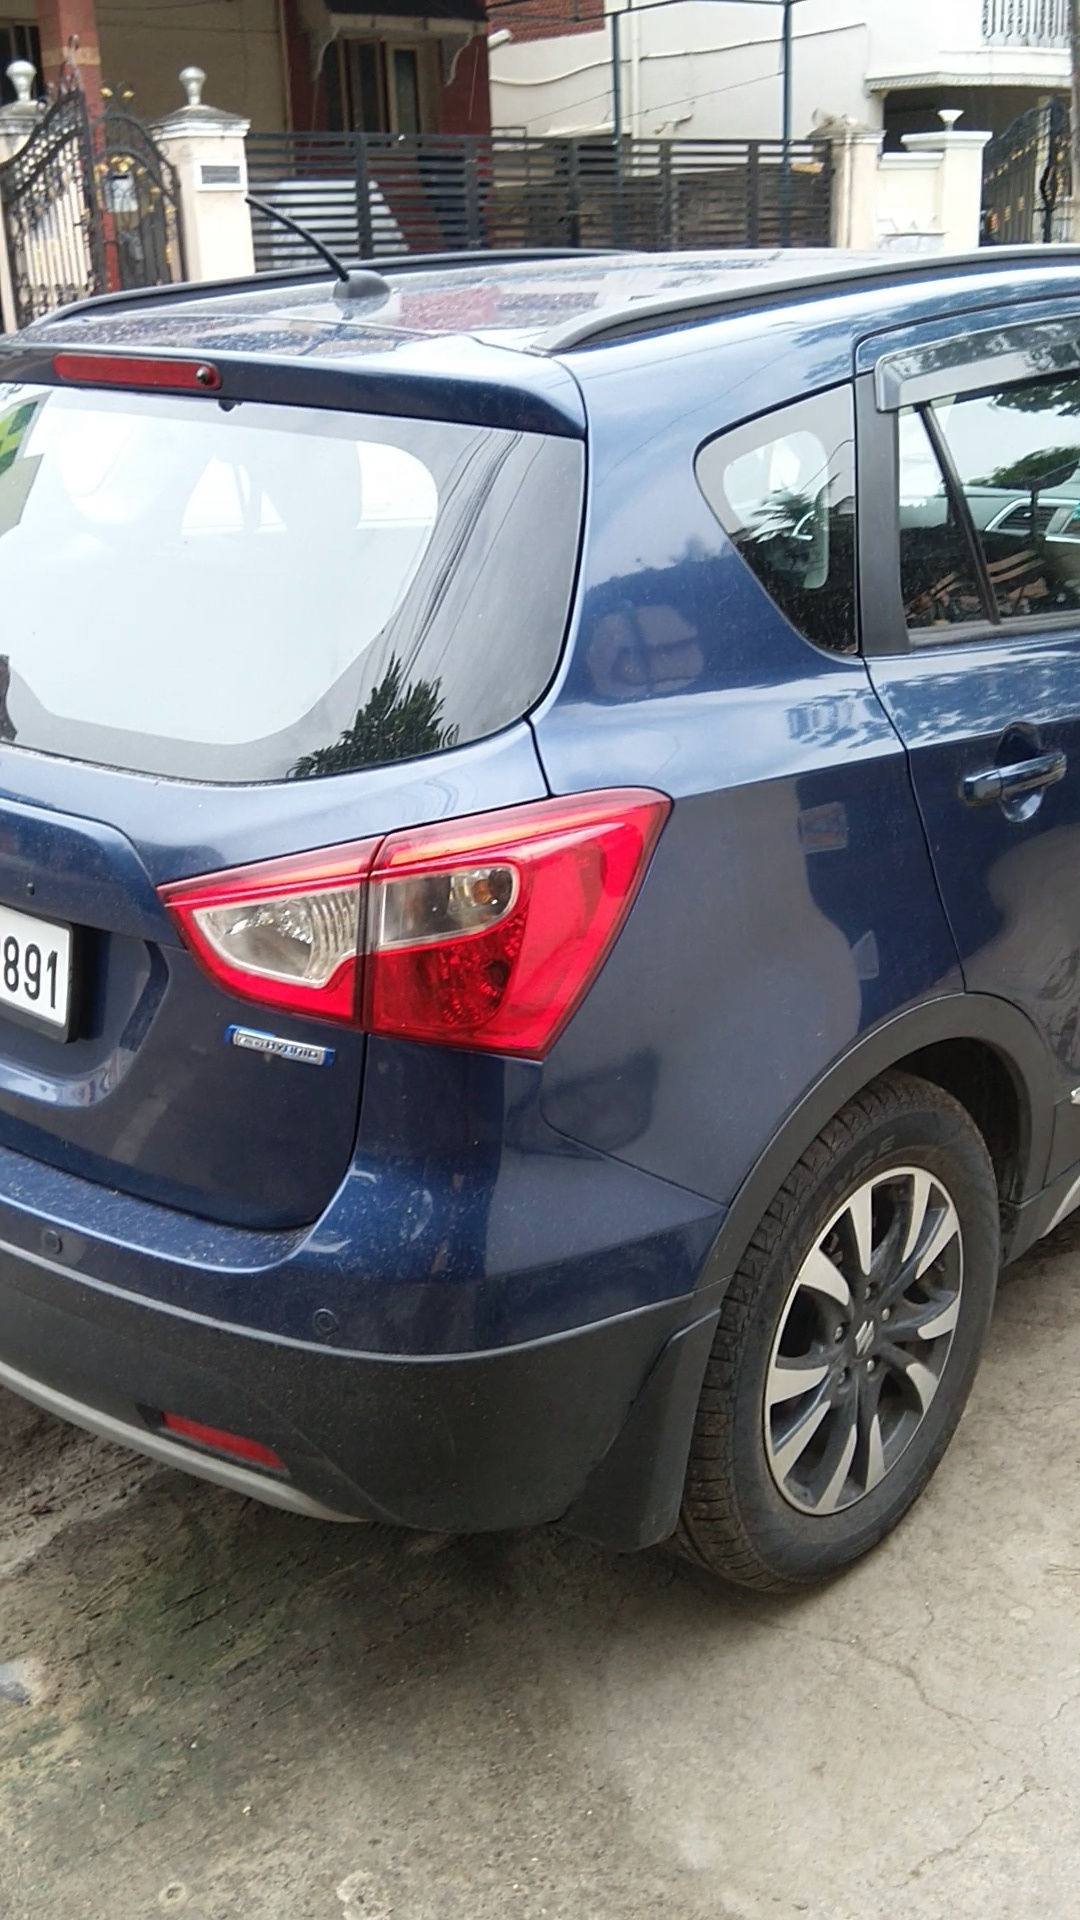alloy_wheel: (686, 1075, 1026, 1592)
rear_camera: (181, 360, 222, 392)
shvs: (214, 1005, 345, 1085)
